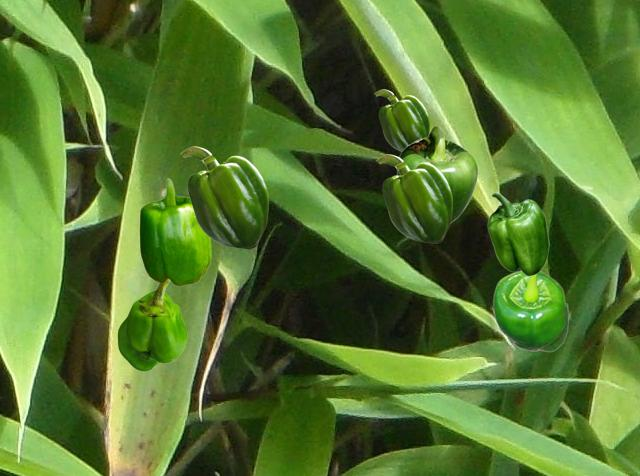bell_pepper: (180, 146, 267, 248), (396, 125, 477, 223), (139, 178, 210, 285), (376, 154, 451, 242), (117, 280, 186, 370), (492, 270, 568, 351), (487, 192, 548, 275), (374, 89, 428, 151)
